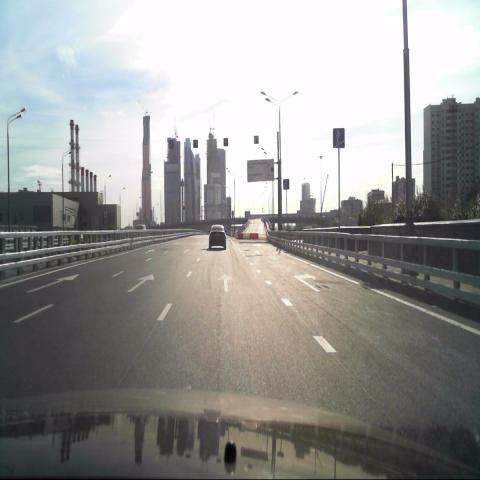6_6: (333, 127, 344, 148), (283, 179, 289, 190)
